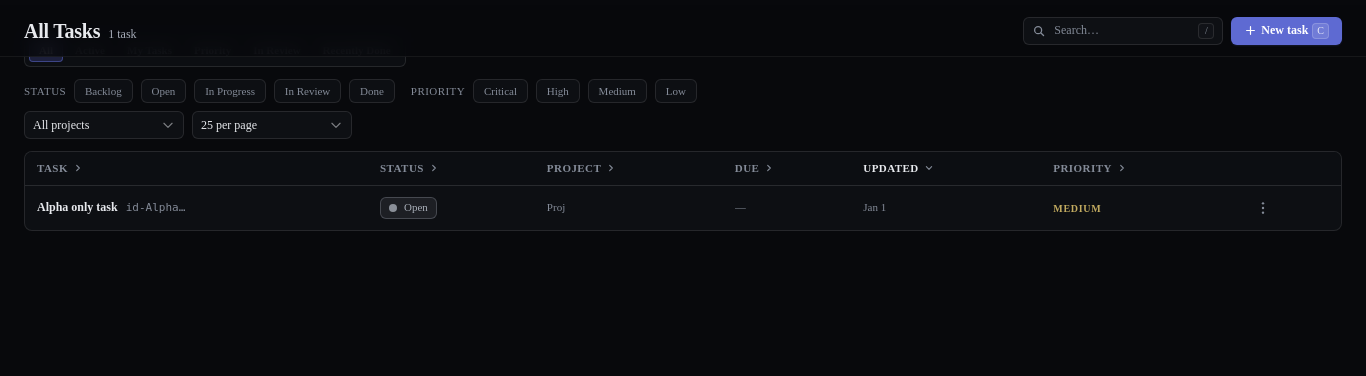
Test case: /tasks: the count and New task wait for the current team's list › a failed refresh of a list already shown keeps its count and New task
Expected: the text "1 task" is shown, x1=108 y1=26 x2=136 y2=40
// The search box refetches the same team's list.
Type "x" into the search field named "Search tasks". click: (1122, 30)
box: x1=1054 y1=23 x2=1190 y2=38
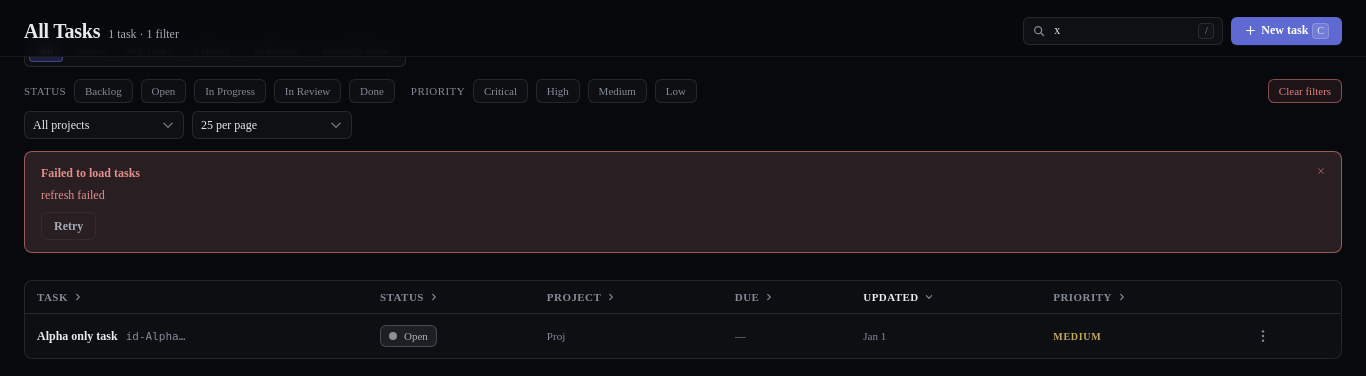
Expected: the button "New task C" is enabled, x1=1231 y1=16 x2=1342 y2=44
Result: the text "refresh failed" is shown at x1=41 y1=188 x2=105 y2=202
Result: the text "1 task" reads "1 task · 1 filter" at x1=108 y1=26 x2=179 y2=40
